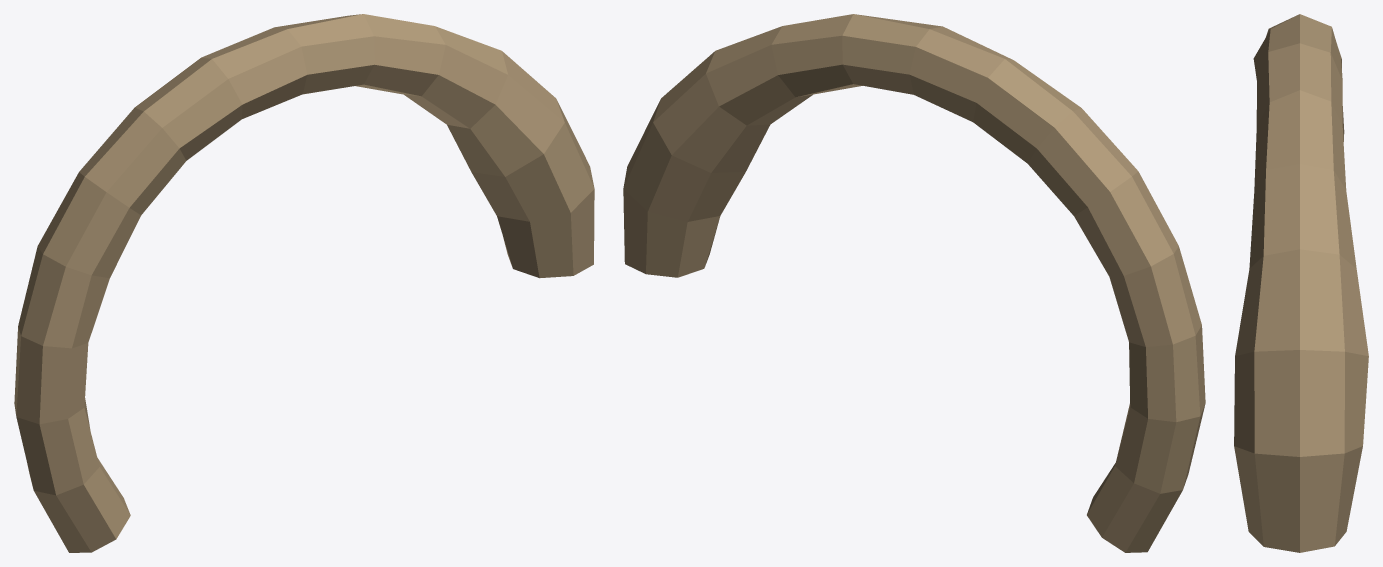
The model's file is tower-willow-parts.glb.
3 views of the same model, side by side, from view 1: azimuth 30°, elevation 25°; view 2: azimuth 150°, elevation 25°; view 3: azimuth 270°, elevation 25° (orthographic). The views are drawn at different scales.
Visible parts, largest first — view 1: bow; view 2: bow; view 3: bow.
Boxes of the visible parts, left/top/right/bottom form: bow: left=14, top=14, right=594, bottom=552; bow: left=623, top=14, right=1205, bottom=552; bow: left=1234, top=14, right=1368, bottom=552.
Bounding box in the file's own units: 0.9593 × 0.7518 × 0.1694.
